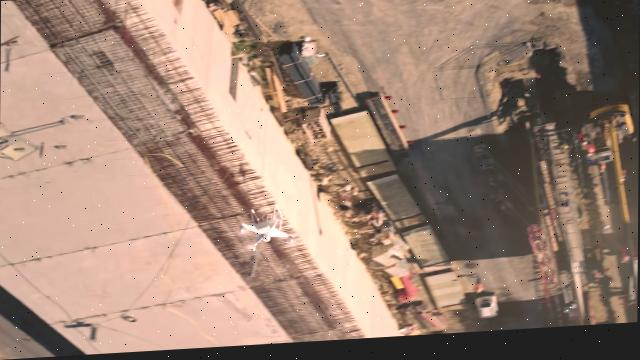drone: (236, 205, 295, 258)
